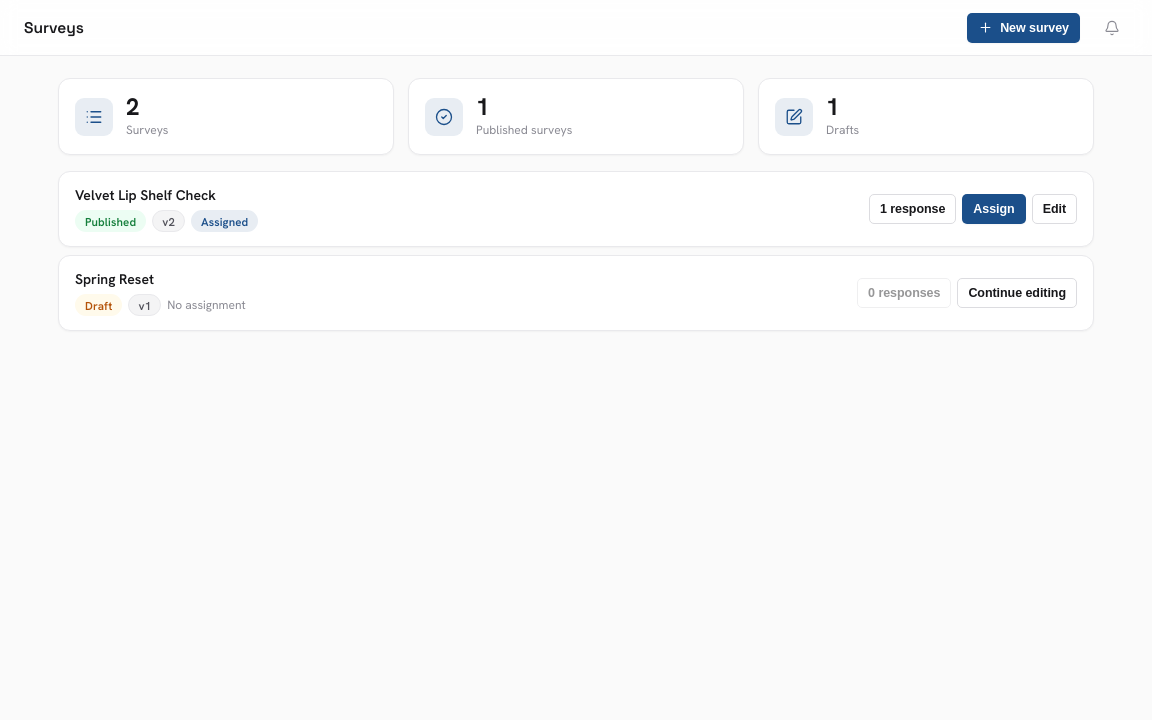
SurveyList › clicking a responses button opens the list modal
This screenshot has width=1152, height=720.
expect the text "Velvet Lip Shelf Check" is shown: met, box [75,186,216,204]
// Wait for responses to load
Click the button "1 response": click(913, 209) [869,194,956,224]
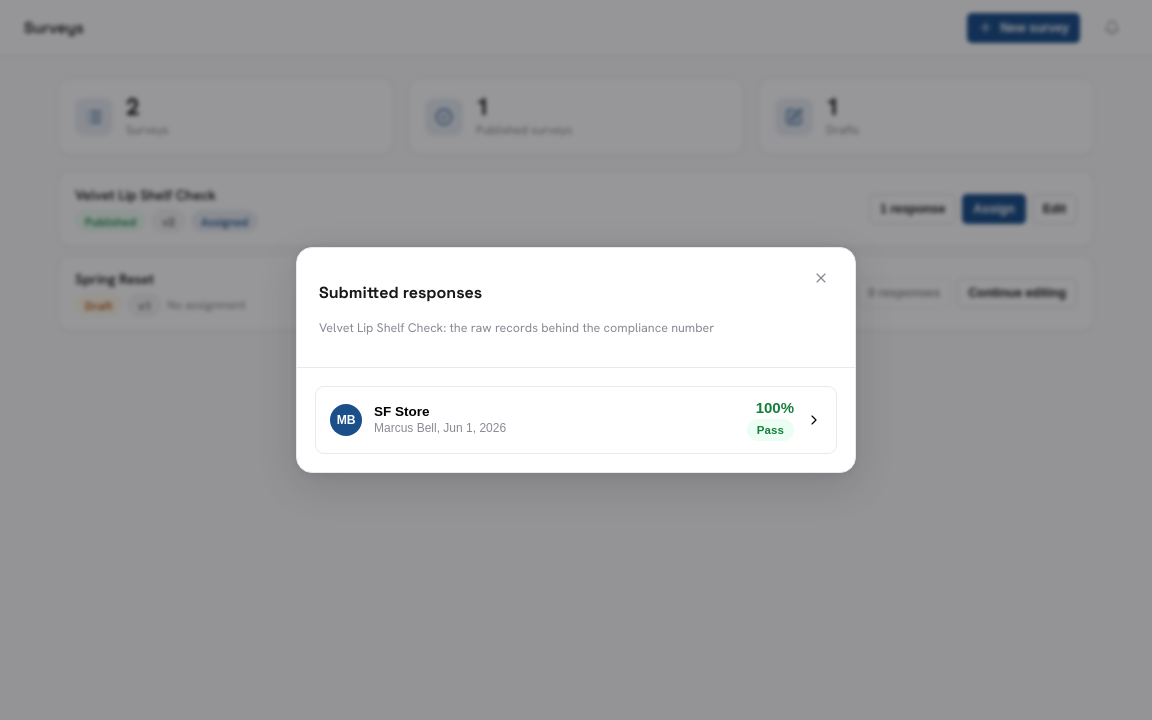
expect the heading "Submitted responses" is shown: met, box [319,282,482,303]
